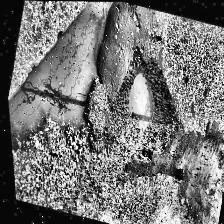pothole: (110, 54, 172, 138)
